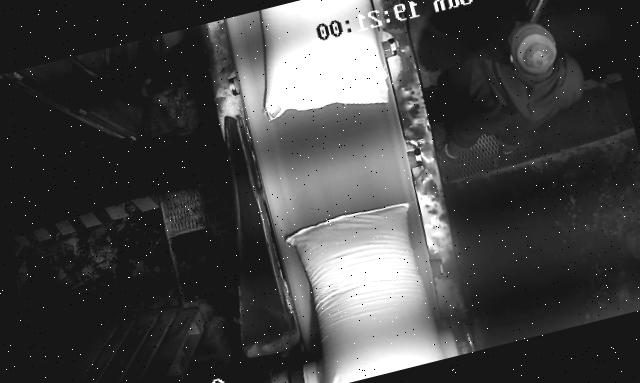bag: (281, 198, 448, 383), (240, 0, 393, 131)
